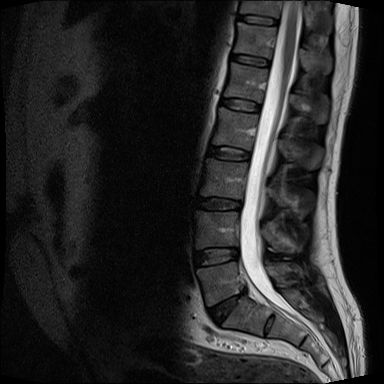Degenerative Disc Disease (DDD): (203, 287, 253, 329)
Lumbar Disc Bulge (LDB): (203, 285, 248, 333)
Normal IVD: (190, 243, 244, 274), (190, 191, 248, 216), (203, 143, 255, 165), (227, 48, 272, 73), (215, 97, 268, 117), (235, 12, 282, 30)
Spinal Stenosis (SS): (237, 283, 253, 304)
